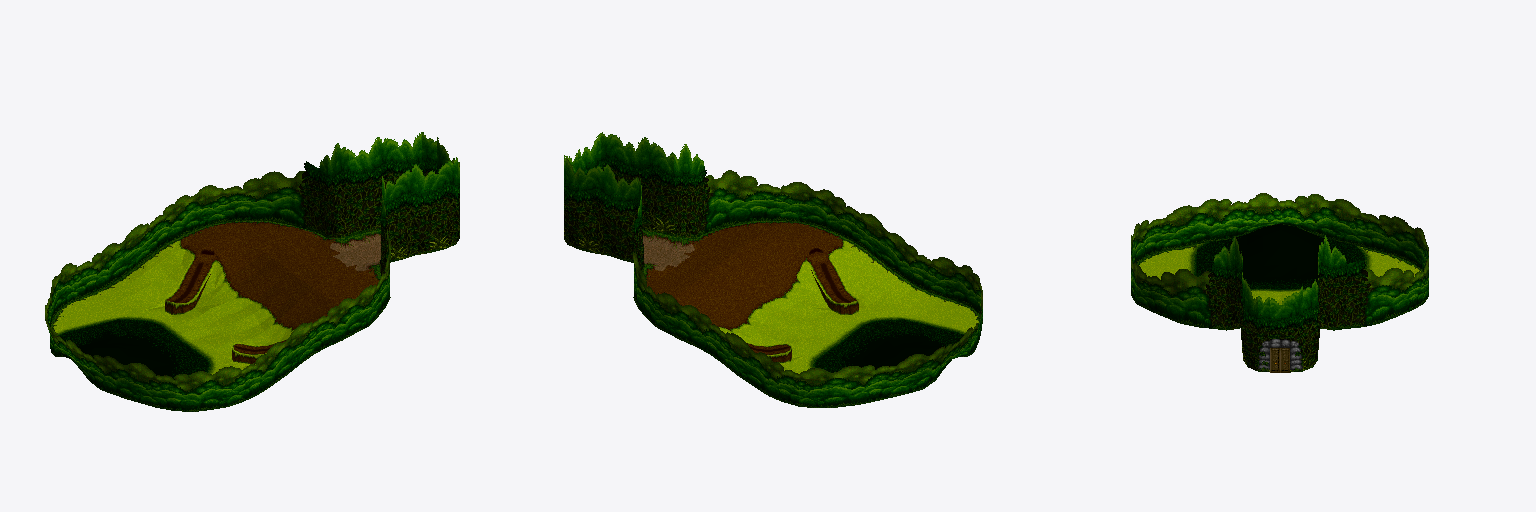
3 views of the same model, side by side, from view 1: azimuth 30°, elevation 25°; view 2: azimuth 150°, elevation 25°; view 3: azimuth 270°, elevation 25° (orthographic).
Parts seen in each view (by area): view 1: T3B1M002_22, T3B1M002_4, T3B1M002_13, T3B1M002_33, T3B1M002_5, T3B1M002_2, T3B1M002_3, T3B1M002_11, T3B1M002_32, T3B1M002_6, T3B1M002_44, T3B1M002_29 (+28 smaller); view 2: T3B1M002_32, T3B1M002_23, T3B1M002_41, T3B1M002_48, T3B1M002_39, T3B1M002_1, T3B1M002_22, T3B1M002_49, T3B1M002_29, T3B1M002_33, T3B1M002_38, T3B1M002_2 (+28 smaller); view 3: T3B1M002_24, T3B1M002_13, T3B1M002_41, T3B1M002_35, T3B1M002_15, T3B1M002_25, T3B1M002_1, T3B1M002_34, T3B1M002_7, T3B1M002_44, T3B1M002_6, T3B1M002_49 (+9 smaller).
Part boxes in pixels (x1,y1,x2,y2): T3B1M002_22: (335, 137, 380, 253); T3B1M002_4: (150, 195, 231, 282); T3B1M002_13: (261, 155, 339, 250); T3B1M002_33: (414, 157, 458, 255); T3B1M002_5: (193, 183, 260, 244); T3B1M002_2: (73, 243, 131, 318); T3B1M002_3: (116, 223, 178, 304); T3B1M002_11: (188, 245, 264, 307); T3B1M002_32: (369, 164, 416, 272); T3B1M002_6: (245, 171, 290, 231); T3B1M002_44: (157, 371, 212, 411); T3B1M002_29: (240, 291, 306, 345); T3B1M002_32: (643, 137, 695, 253); T3B1M002_23: (565, 158, 608, 255); T3B1M002_41: (696, 154, 762, 250); T3B1M002_48: (763, 182, 830, 244); T3B1M002_39: (767, 237, 856, 307); T3B1M002_1: (799, 365, 872, 407); T3B1M002_22: (607, 165, 654, 262); T3B1M002_49: (733, 171, 778, 231); T3B1M002_29: (742, 272, 827, 320); T3B1M002_33: (601, 132, 646, 230); T3B1M002_38: (825, 276, 891, 323); T3B1M002_2: (754, 352, 798, 406); T3B1M002_24: (1270, 281, 1317, 372); T3B1M002_13: (1334, 246, 1379, 330); T3B1M002_41: (1180, 246, 1226, 330); T3B1M002_35: (1180, 199, 1229, 255); T3B1M002_15: (1280, 194, 1329, 250); T3B1M002_25: (1230, 193, 1279, 250); T3B1M002_1: (1380, 215, 1426, 276); T3B1M002_34: (1242, 279, 1269, 371); T3B1M002_7: (1329, 199, 1362, 254); T3B1M002_44: (1133, 218, 1179, 269); T3B1M002_6: (1380, 268, 1412, 322); T3B1M002_49: (1148, 269, 1179, 322).
Bounding box in the file's own units: 36.25 × 12.69 × 24.06.
1 materials, 1 textured.